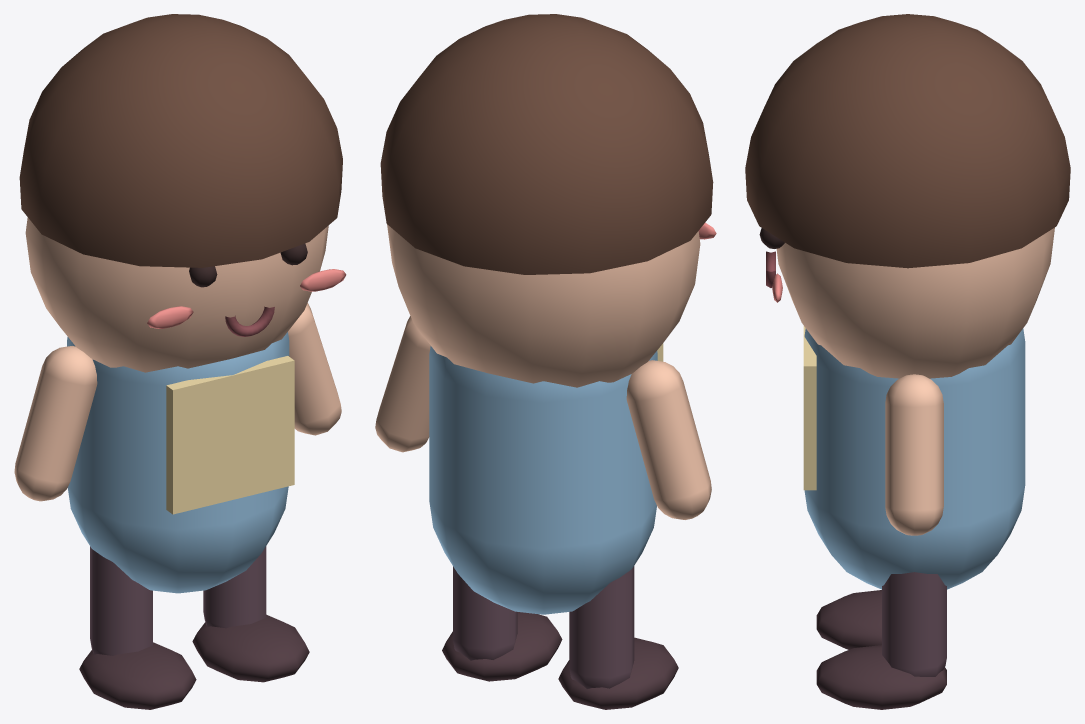
File: customer-cute-02.glb
3 renders of one model, left to right at view 1: azimuth 30°, elevation 25°; view 2: azimuth 150°, elevation 25°; view 3: azimuth 270°, elevation 25°, orthographic. The views are drawn at different scales.
Size of the model in its own units: 1.13 by 2.18 by 0.9983.
